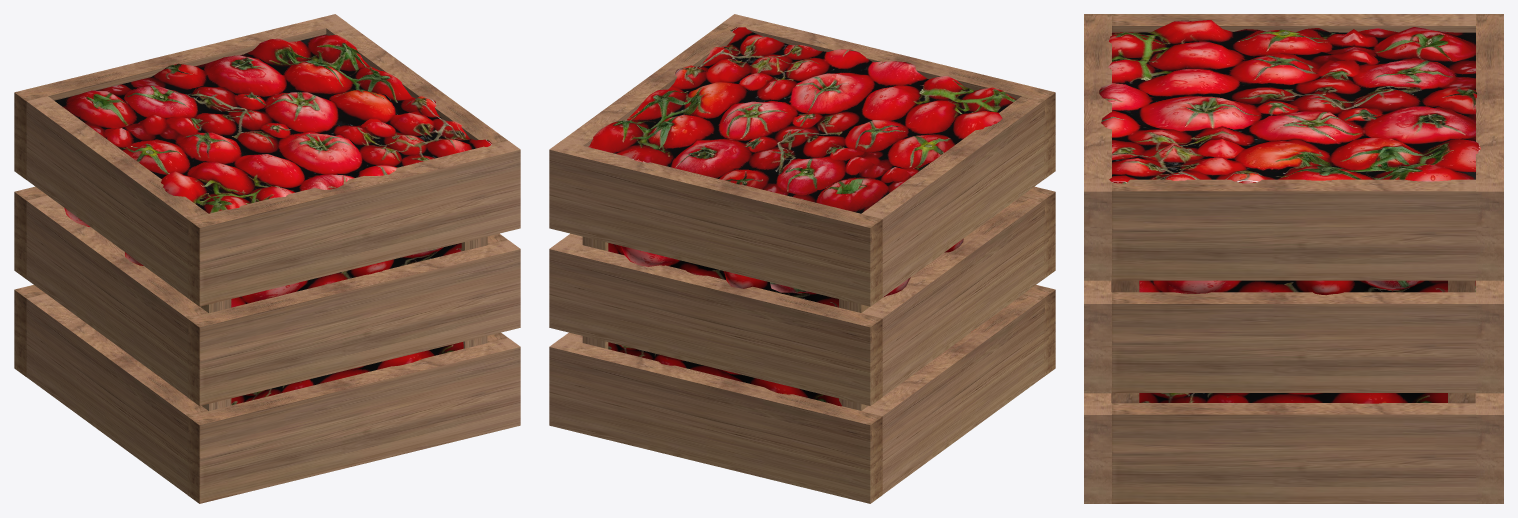
The model's file is tomato_crate_high_geometry.obj.
The picture shows the model from 3 angles, left to right: view 1: azimuth 30°, elevation 25°; view 2: azimuth 150°, elevation 25°; view 3: azimuth 270°, elevation 25°; orthographic projection. The views are drawn at different scales.
Visible parts, largest first — view 1: Cube.017_Cube.020, Cube.002, Cube, Cube.010, Cube.013, Cube.008, Cube.007, Cube.011, Cube.012, Cube.004, Cube.003; view 2: Cube.017_Cube.020, Cube.011, Cube.003, Cube.004, Cube.013, Cube.008, Cube.007, Cube.010, Cube.012, Cube.002, Cube; view 3: Cube.017_Cube.020, Cube.012, Cube.005, Cube.006, Cube.011, Cube.010, Cube.013, Cube.004, Cube.002, Cube, Cube.003, Cube.016_Cube.019 (+1 smaller).
Boxes of the visible parts, x1=… form: Cube.017_Cube.020: x1=54, y1=34, x2=491, y2=405; Cube.002: x1=187, y1=240, x2=520, y2=405; Cube: x1=187, y1=338, x2=520, y2=503; Cube.010: x1=187, y1=140, x2=520, y2=306; Cube.013: x1=26, y1=96, x2=208, y2=297; Cube.008: x1=26, y1=195, x2=208, y2=396; Cube.007: x1=26, y1=294, x2=207, y2=494; Cube.011: x1=14, y1=14, x2=347, y2=179; Cube.012: x1=326, y1=23, x2=507, y2=144; Cube.004: x1=14, y1=186, x2=47, y2=279; Cube.003: x1=14, y1=285, x2=45, y2=376; Cube.017_Cube.020: x1=588, y1=27, x2=1016, y2=406; Cube.011: x1=549, y1=140, x2=882, y2=306; Cube.003: x1=549, y1=338, x2=882, y2=503; Cube.004: x1=549, y1=240, x2=882, y2=405; Cube.013: x1=861, y1=96, x2=1043, y2=297; Cube.008: x1=861, y1=195, x2=1043, y2=396; Cube.007: x1=862, y1=294, x2=1043, y2=494; Cube.010: x1=722, y1=14, x2=1055, y2=179; Cube.012: x1=562, y1=23, x2=738, y2=146; Cube.002: x1=1022, y1=186, x2=1055, y2=279; Cube: x1=1024, y1=285, x2=1055, y2=376; Cube.017_Cube.020: x1=1099, y1=20, x2=1480, y2=403; Cube.012: x1=1112, y1=179, x2=1475, y2=280; Cube.005: x1=1112, y1=403, x2=1475, y2=503; Cube.006: x1=1112, y1=292, x2=1475, y2=392; Cube.011: x1=1476, y1=14, x2=1503, y2=280; Cube.010: x1=1084, y1=14, x2=1111, y2=280; Cube.013: x1=1112, y1=14, x2=1475, y2=32; Cube.004: x1=1476, y1=280, x2=1503, y2=393; Cube.002: x1=1084, y1=280, x2=1111, y2=393; Cube: x1=1084, y1=393, x2=1111, y2=503; Cube.003: x1=1476, y1=393, x2=1503, y2=503; Cube.016_Cube.019: x1=1111, y1=280, x2=1139, y2=403.
Bounding box in the file's own units: 2.31 × 1.95 × 2.31.
2 materials, 2 textured.
